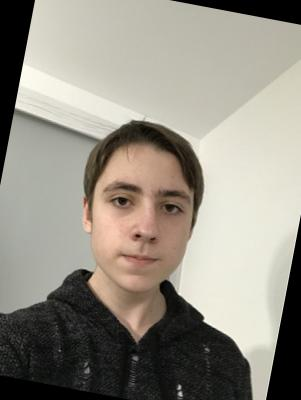without_mask: (78, 167, 198, 302)
